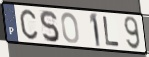1: (89, 12, 102, 48)
9: (123, 16, 142, 51)
C: (19, 9, 39, 42)
L: (102, 15, 121, 48)
O: (60, 11, 80, 45)
S: (39, 9, 61, 43)
